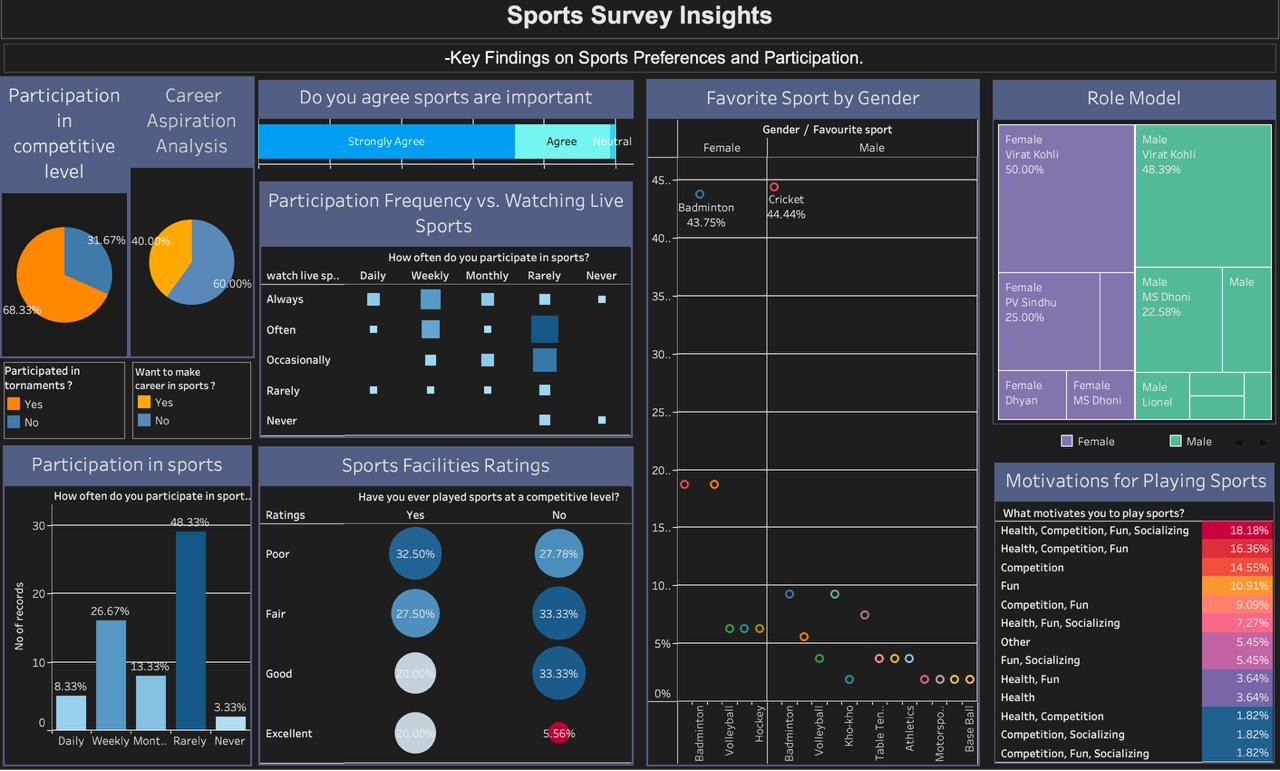

The page's visual inventory and layout, read from the dashboard file:
{"tool":"tableau","page":{"name":"Dashboard 1","canvas":[1450,880],"ordinal":0},"visuals":[{"type":"text","box":[9,9,1432,71.8]},{"type":"text","box":[9,80.8,1432,42.5]},{"type":"worksheet","title":" Career Aspiration Analysis","mark":"Pie","box":[189.5,123.3,180.6,304.8]},{"type":"worksheet","title":"Participation Frequency vs. Watching Live Sports ","mark":"Automatic","rows":["4. How often do you participate in sports?"],"cols":["6. How often do you watch live sports events?"],"box":[370,123.3,507,263]},{"type":"worksheet","title":"Favorite Sport by Gender","mark":"Shape","cols":["Gender","Favourite sport"],"box":[877,123.3,563.9,431.7]},{"type":"worksheet","title":"Participation in competitive level","mark":"Pie","box":[11,125,176,301]},{"type":"worksheet","title":" Motivations for Playing Sports","mark":"Automatic","box":[370,386.3,507,169]},{"type":"legend","title":"Participation in competitive level","param":"[federated.1482enq1cgspmw16yx3s40cx6w3r].[none:7. Have you ever played sports at","box":[9,428.1,181,68]},{"type":"legend","title":" Career Aspiration Analysis","param":"[federated.1482enq1cgspmw16yx3s40cx6w3r].[none:11. Do you aspire to pursue a car","box":[190,428.1,180,69.6]},{"type":"worksheet","title":"Participation in sports","mark":"Automatic","rows":["Calculation_1265018927717294080"],"cols":["4. How often do you participate in sports?"],"box":[9,497.7,361,373.3]},{"type":"worksheet","title":"Role Model","mark":"Automatic","box":[877,555,564,316]},{"type":"worksheet","title":"Sports Facilities Ratings","mark":"Area","cols":["7. Have you ever played sports at a competitive level?","10. How would you rate the current sports facilities in your"],"box":[370,555.3,507,266.7]},{"type":"legend","title":"Sports Facilities Ratings","param":"[federated.1482enq1cgspmw16yx3s40cx6w3r].[none:10. How would you rate the curren","box":[370,822,507,49]}]}

Visuals, with their boxes in screenshot pixels (x1, y1, x2, y2), scaled from the page's 1450x880 canvas onto the 1280x771 screenshot:
text: <bbox>8, 8, 1272, 71</bbox>
text: <bbox>8, 71, 1272, 108</bbox>
" Career Aspiration Analysis" worksheet (Pie marks): <bbox>167, 108, 327, 375</bbox>
"Participation Frequency vs. Watching Live Sports " worksheet: <bbox>327, 108, 774, 338</bbox>
"Favorite Sport by Gender" worksheet (Shape marks): <bbox>774, 108, 1272, 486</bbox>
"Participation in competitive level" worksheet (Pie marks): <bbox>10, 110, 165, 373</bbox>
" Motivations for Playing Sports" worksheet: <bbox>327, 338, 774, 487</bbox>
"Participation in competitive level" legend: <bbox>8, 375, 168, 435</bbox>
" Career Aspiration Analysis" legend: <bbox>168, 375, 327, 436</bbox>
"Participation in sports" worksheet: <bbox>8, 436, 327, 763</bbox>
"Role Model" worksheet: <bbox>774, 486, 1272, 763</bbox>
"Sports Facilities Ratings" worksheet (Area marks): <bbox>327, 487, 774, 720</bbox>
"Sports Facilities Ratings" legend: <bbox>327, 720, 774, 763</bbox>
